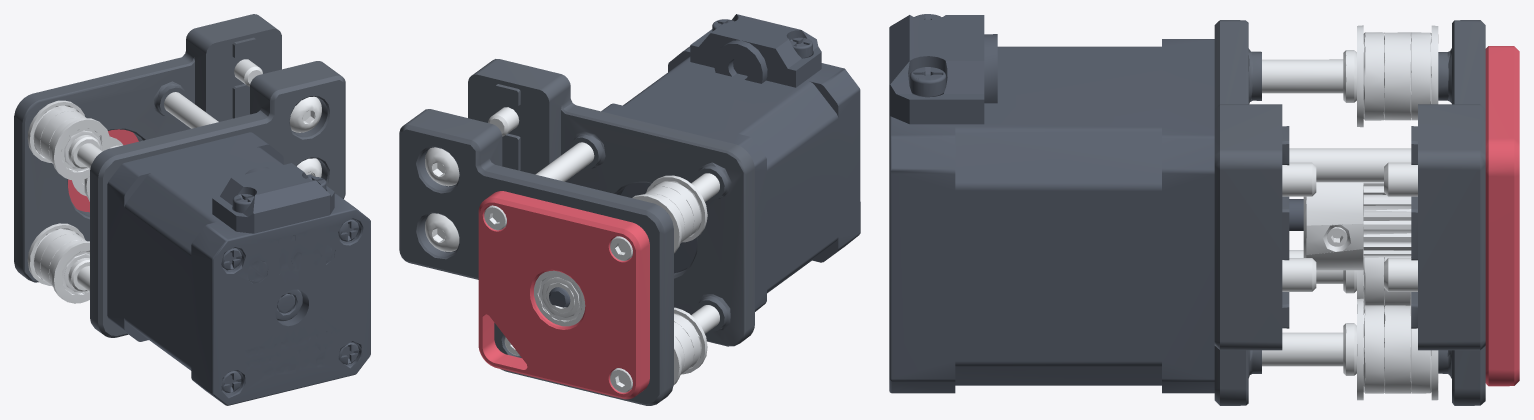
The picture shows the model from 3 angles, left to right: view 1: azimuth 30°, elevation 25°; view 2: azimuth 150°, elevation 25°; view 3: azimuth 270°, elevation 25°; orthographic projection. The views are drawn at different scales.
Parts seen in each view (by area): view 1: nema17_motor_46, AWD前电机座【B版本】-右, AWD前电机座【B版本】-右_1, 轴承-F695ZZ_13, 轴承-F695ZZ_9, 轴承-F695ZZ_11, 轴承-F695ZZ_7, 非标空心柱, M5x12-圆头_28, 非标轴承柱_10, AB电机盖-带缺口, 轴承-695ZZ_12 (+4 smaller); view 2: nema17_motor_46, AWD前电机座【B版本】-右_1, AB电机盖-带缺口, AWD前电机座【B版本】-右, 轴承-F695ZZ_30, 轴承-F695ZZ_13, 非标空心柱, M5x12-圆头_26, M5x12-圆头, 轴承-F695ZZ_9, 轴承-F695ZZ_11, 轴承-695ZZ_12 (+7 smaller); view 3: nema17_motor_46, AWD前电机座【B版本】-右_1, AWD前电机座【B版本】-右, AB电机盖-带缺口, 同步轮2GT-9-20T, 非标轴承柱_10, 非标空心柱, 非标轴承柱, 轴承-F695ZZ_5, 轴承-F695ZZ_13, 轴承-695ZZ_12, 轴承-695ZZ (+9 smaller).
Part boxes in pixels (box(x1,y1,x2,y2)): nema17_motor_46: box(107, 132, 370, 405); AWD前电机座【B版本】-右: box(14, 14, 281, 282); AWD前电机座【B版本】-右_1: box(90, 61, 345, 337); 轴承-F695ZZ_13: box(49, 117, 110, 180); 轴承-F695ZZ_9: box(49, 240, 89, 303); 轴承-F695ZZ_11: box(27, 100, 84, 162); 轴承-F695ZZ_7: box(27, 223, 84, 285); 非标空心柱: box(164, 92, 218, 128); M5x12-圆头_28: box(289, 96, 321, 132); 非标轴承柱_10: box(68, 135, 102, 168); AB电机盖-带缺口: box(68, 129, 138, 212); 轴承-695ZZ_12: box(40, 111, 86, 163); nema17_motor_46: box(549, 14, 860, 311); AWD前电机座【B版本】-右_1: box(468, 59, 754, 346); AB电机盖-带缺口: box(478, 191, 649, 399); AWD前电机座【B版本】-右: box(399, 109, 673, 405); 轴承-F695ZZ_30: box(534, 270, 585, 326); 轴承-F695ZZ_13: box(646, 175, 707, 242); 非标空心柱: box(535, 142, 594, 181); M5x12-圆头_26: box(425, 147, 459, 186); M5x12-圆头: box(425, 213, 459, 251); 轴承-F695ZZ_9: box(674, 307, 707, 374); 轴承-F695ZZ_11: box(632, 193, 684, 253); 轴承-695ZZ_12: box(645, 186, 693, 243); nema17_motor_46: box(889, 15, 1303, 393); AWD前电机座【B版本】-右_1: box(1214, 20, 1289, 405); AWD前电机座【B版本】-右: box(1411, 20, 1485, 405); AB电机盖-带缺口: box(1485, 46, 1519, 386); 同步轮2GT-9-20T: box(1303, 182, 1411, 270); 非标轴承柱_10: box(1262, 50, 1356, 102); 非标空心柱: box(1289, 148, 1411, 182); 非标轴承柱: box(1262, 323, 1356, 375); 轴承-F695ZZ_5: box(1357, 298, 1383, 400); 轴承-F695ZZ_13: box(1357, 25, 1383, 127); 轴承-695ZZ_12: box(1384, 32, 1411, 120); 轴承-695ZZ: box(1384, 305, 1411, 393).
Size of the model in its own units: 0.0654 by 0.0525 by 0.093.
